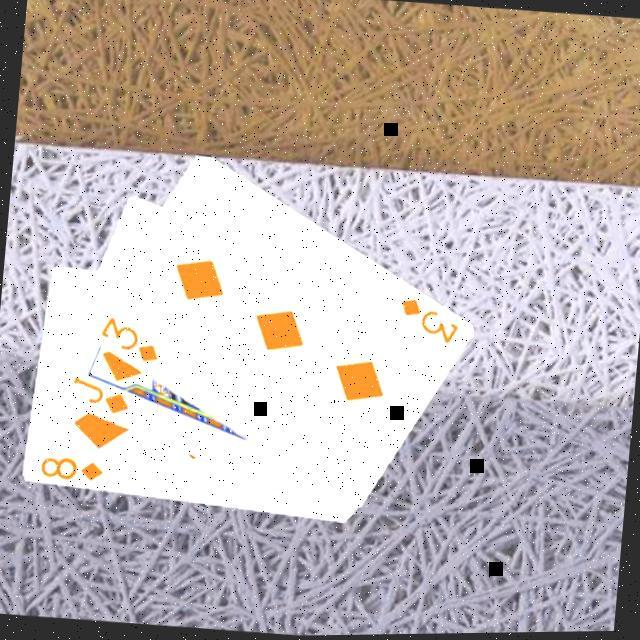3D: (93, 312, 163, 369), (392, 294, 462, 351)
8D: (34, 452, 105, 487)
JD: (65, 371, 133, 420)
